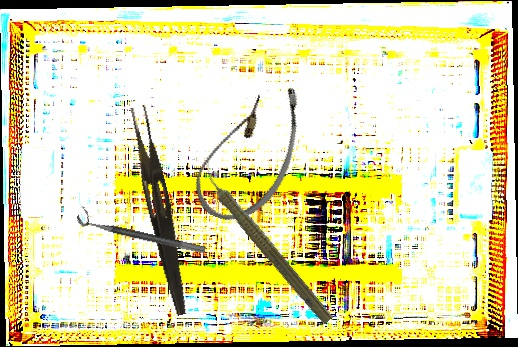Cannula: (184, 66, 317, 236)
Dressing Forceps: (122, 104, 198, 317)
Fixation Ring: (75, 205, 209, 255)
Handpiece: (192, 158, 340, 328)
